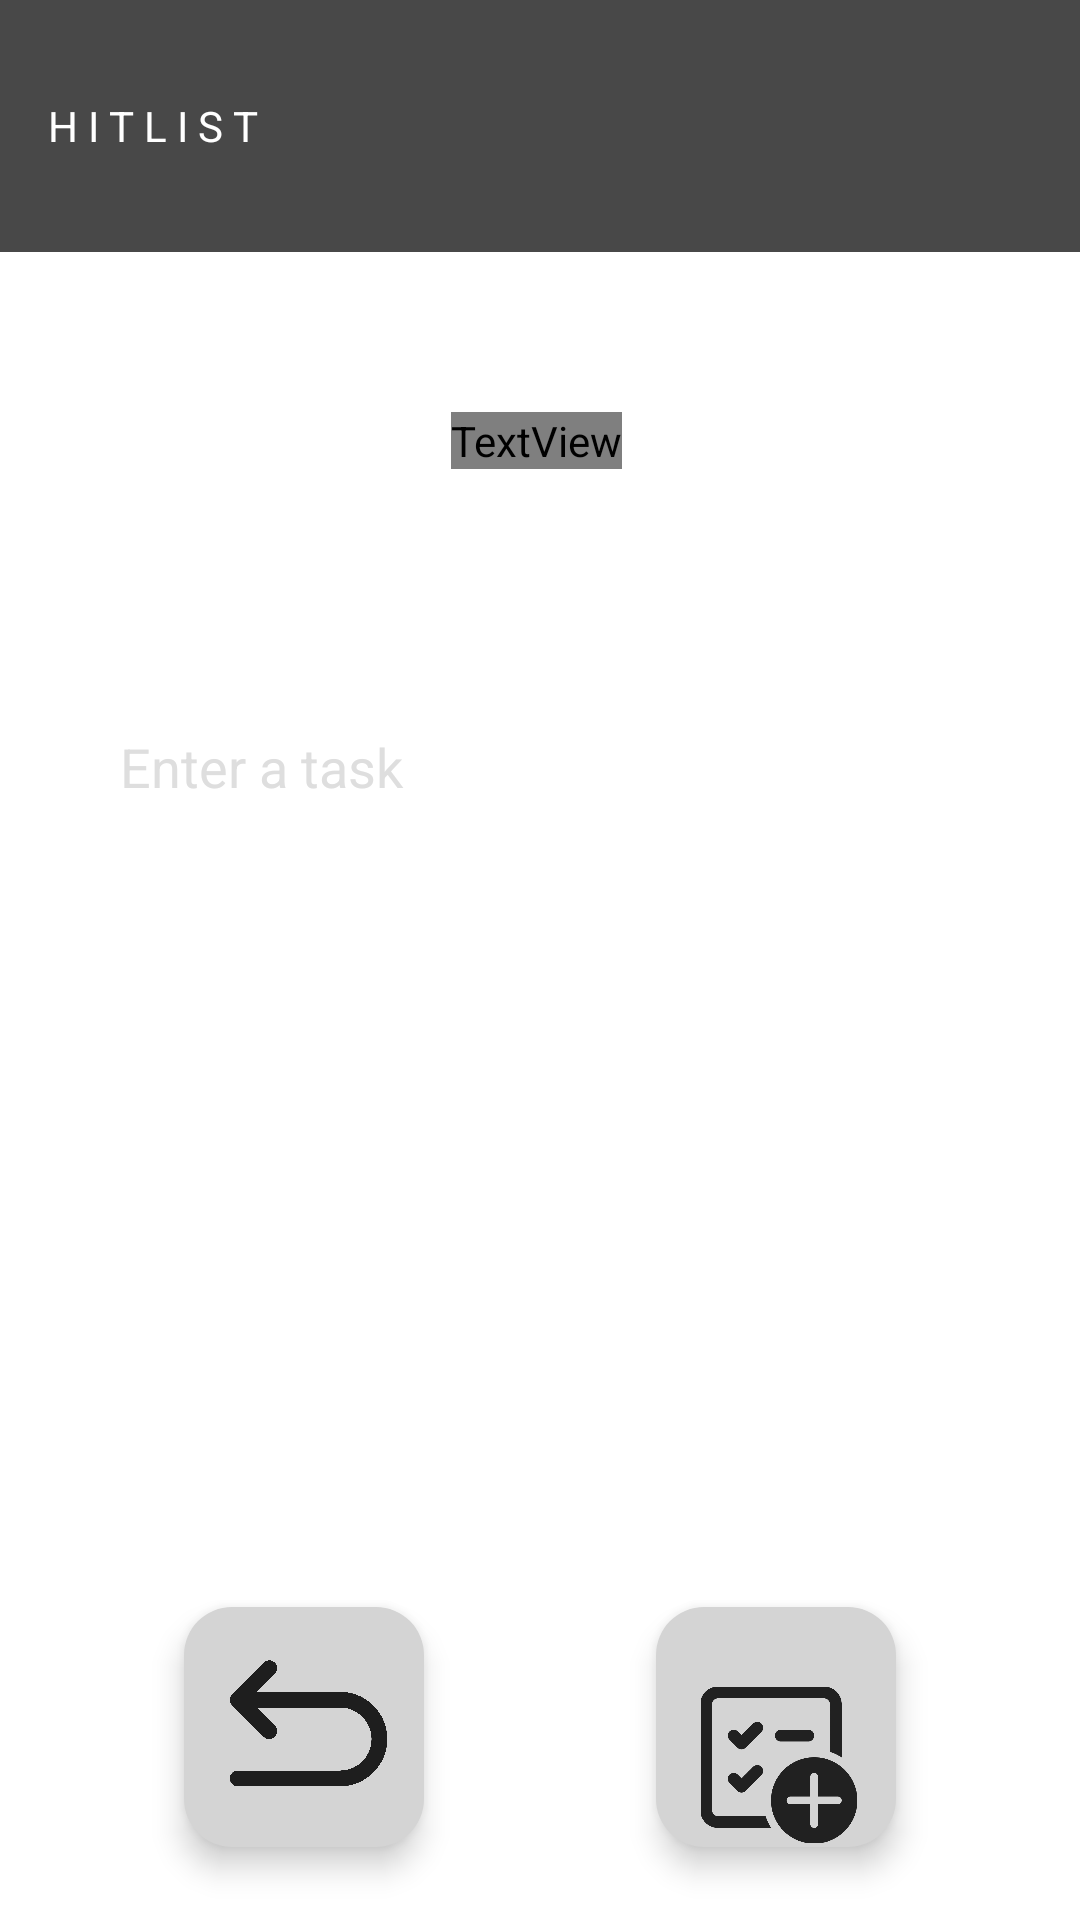

Screen size 1080x1920. Icon name, then its center in pixels as point (x, y):
add task: point (779, 1765)
back: point (308, 1723)
